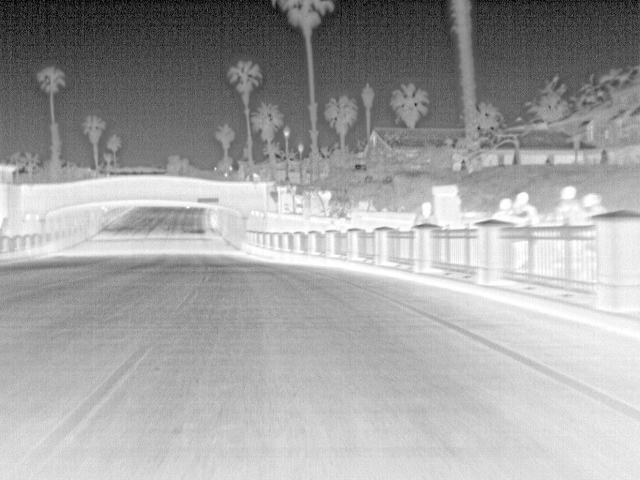person: (550, 185, 585, 222), (490, 195, 524, 223), (511, 190, 540, 220), (411, 199, 442, 225), (580, 190, 608, 216)
